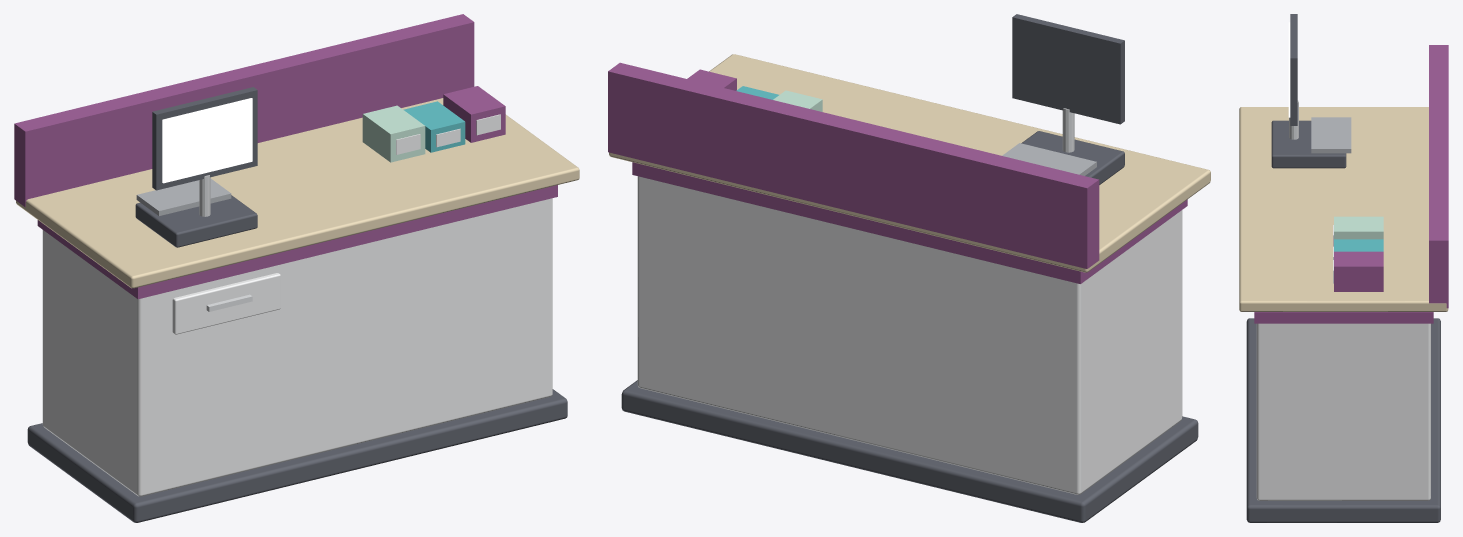
Rendered from pharmacy-and-high-street-chemist-till-counter-049eaa3f__37516.glb.
3 renders of one model, left to right at view 1: azimuth 30°, elevation 25°; view 2: azimuth 150°, elevation 25°; view 3: azimuth 270°, elevation 25°, orthographic. The views are drawn at different scales.
Parts seen in each view (by area): view 1: till-counter, drawer-till/white; view 2: till-counter; view 3: till-counter.
Part boxes in pixels (x1=…): till-counter: x1=14, y1=14, x2=579, y2=522; drawer-till/white: x1=172, y1=273, x2=280, y2=334; till-counter: x1=608, y1=14, x2=1210, y2=522; till-counter: x1=1239, y1=14, x2=1448, y2=522.
Size of the model in its own units: 1.86 by 1.51 by 0.8411.
